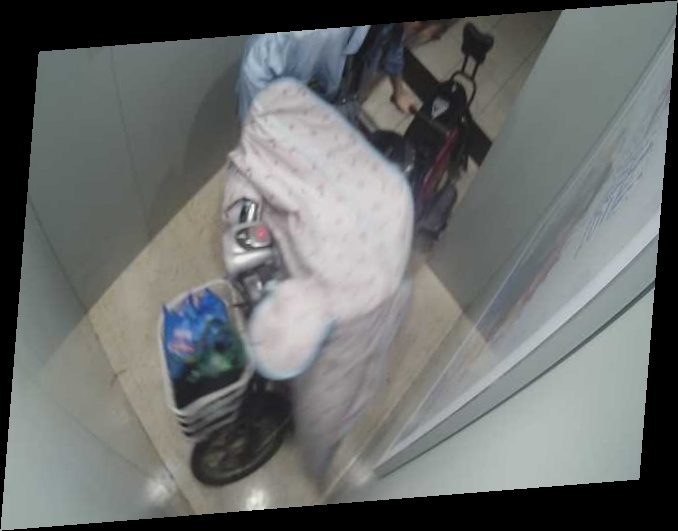electromobile: (159, 54, 504, 494)
